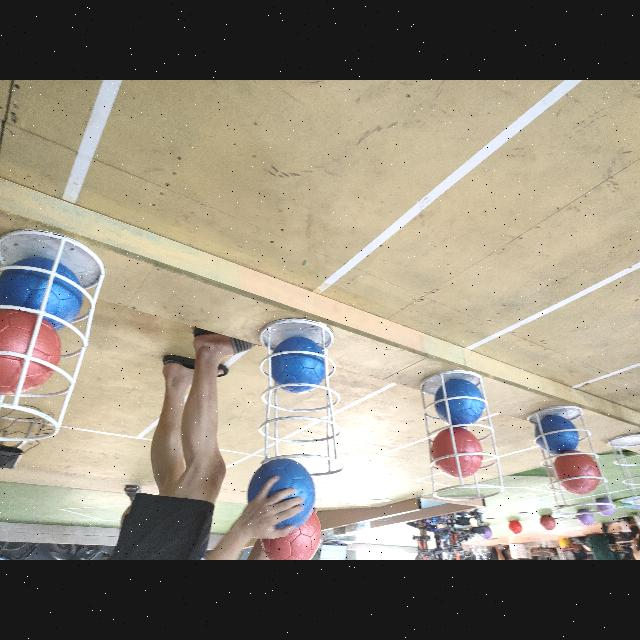B: (0, 256, 84, 326), (270, 336, 326, 392), (434, 380, 486, 424), (534, 414, 580, 452)
R: (0, 310, 60, 396), (431, 427, 484, 479), (554, 453, 600, 495)
